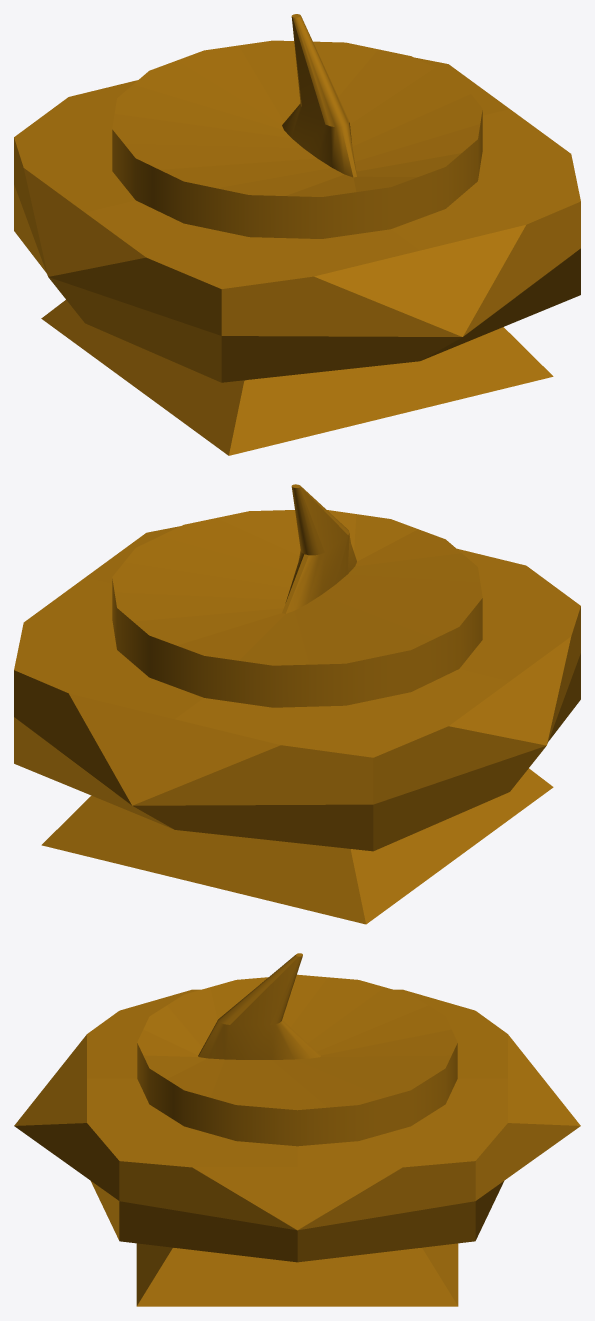
The model's file is Sun Dial Okay.fbx.
The picture shows the model from 3 angles, top to bottom: view 1: azimuth 30°, elevation 25°; view 2: azimuth 150°, elevation 25°; view 3: azimuth 270°, elevation 25°; orthographic projection. The views are drawn at different scales.
Parts seen in each view (by area): view 1: pCube2; view 2: pCube2; view 3: pCube2.
Boxes of the visible parts, bbox=[...] form: pCube2: bbox=[14, 14, 580, 455]; pCube2: bbox=[14, 484, 580, 924]; pCube2: bbox=[14, 953, 580, 1306].
Size of the model in its own units: 69.36 by 43.98 by 79.62.
1 material, 1 textured.
